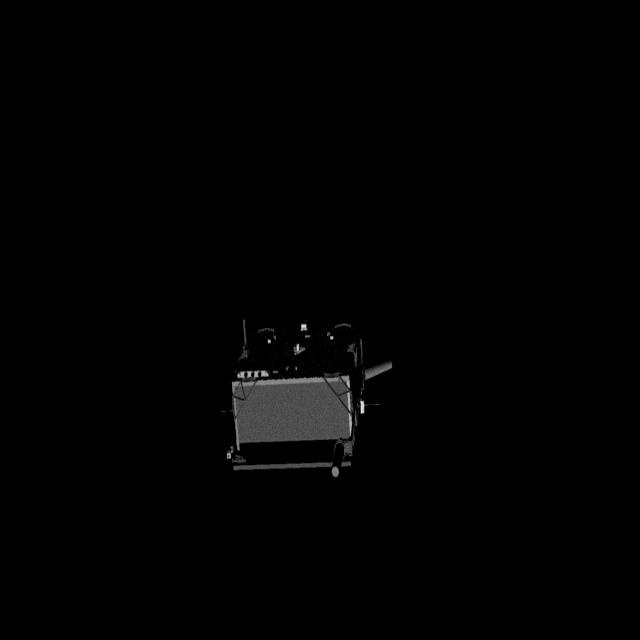satellite: (210, 310, 400, 488)
